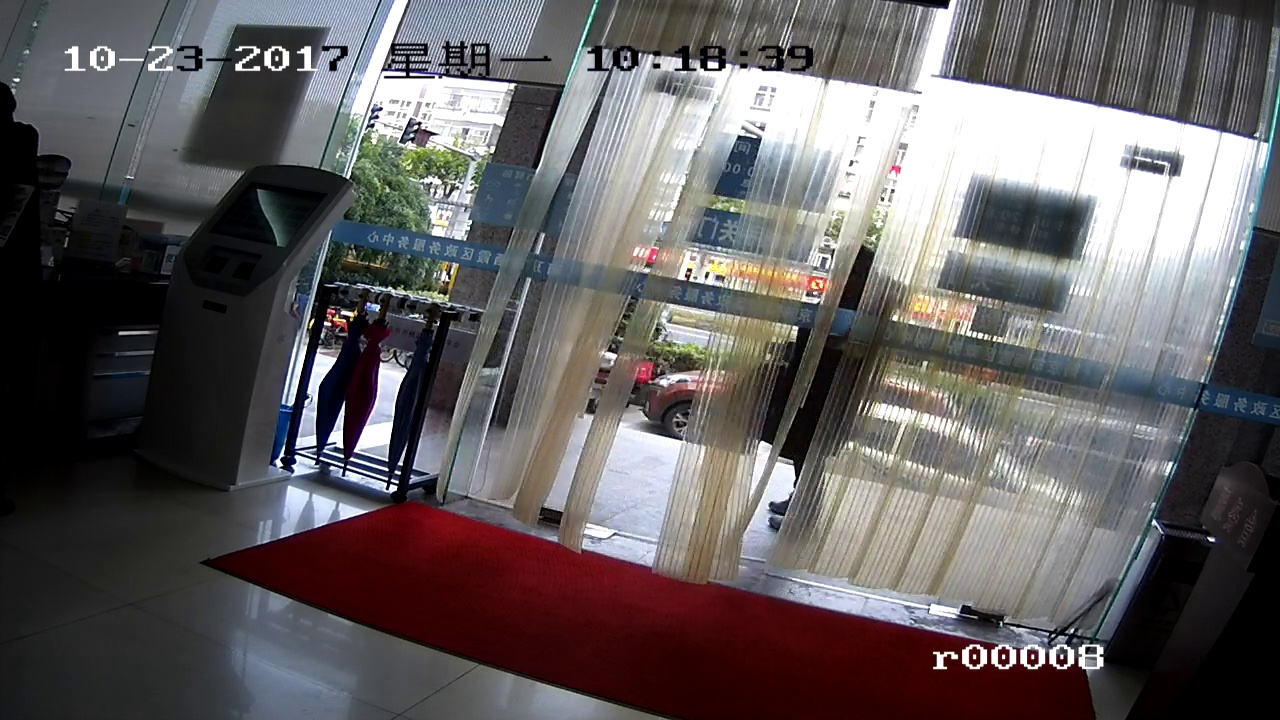monitor: (226, 181, 314, 256)
person: (792, 236, 883, 546)
